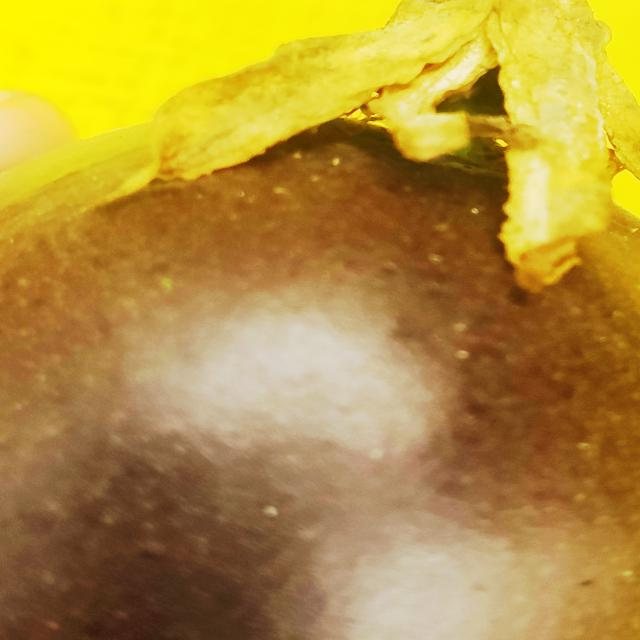Estado-6: (0, 0, 640, 640)
